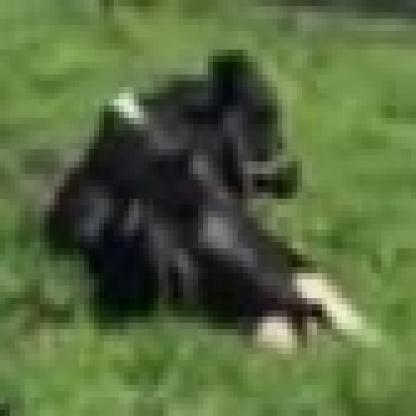cow: (42, 53, 369, 357)
